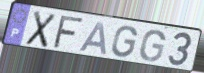3: (167, 31, 194, 69)
A: (77, 21, 108, 56)
F: (51, 15, 87, 51)
G: (138, 29, 167, 63), (111, 25, 139, 59)
X: (24, 10, 58, 50)
